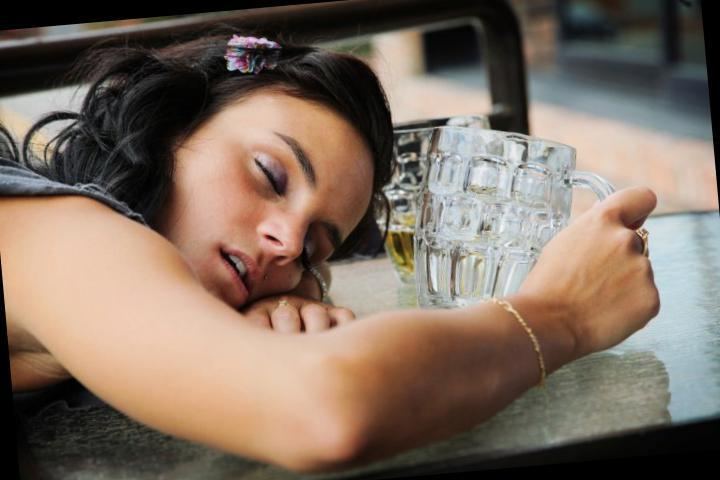Drunk: (189, 103, 373, 300)
